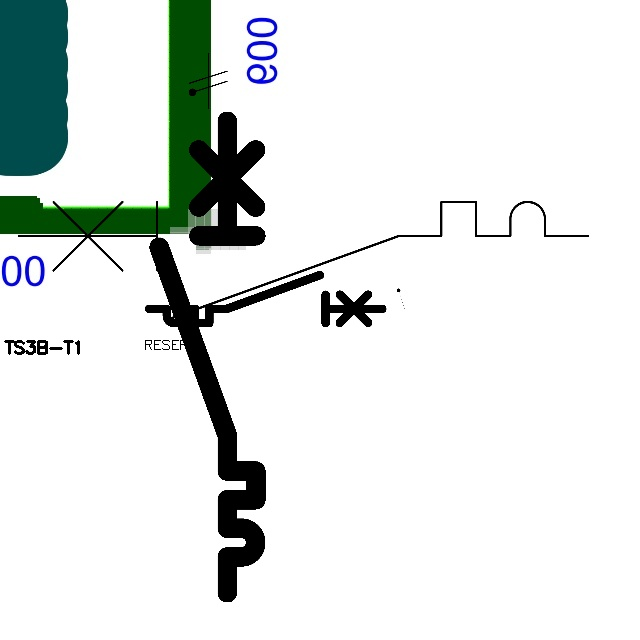interruptor_termomagnetico: (4, 187, 603, 333), (147, 109, 268, 605), (143, 269, 388, 329)
